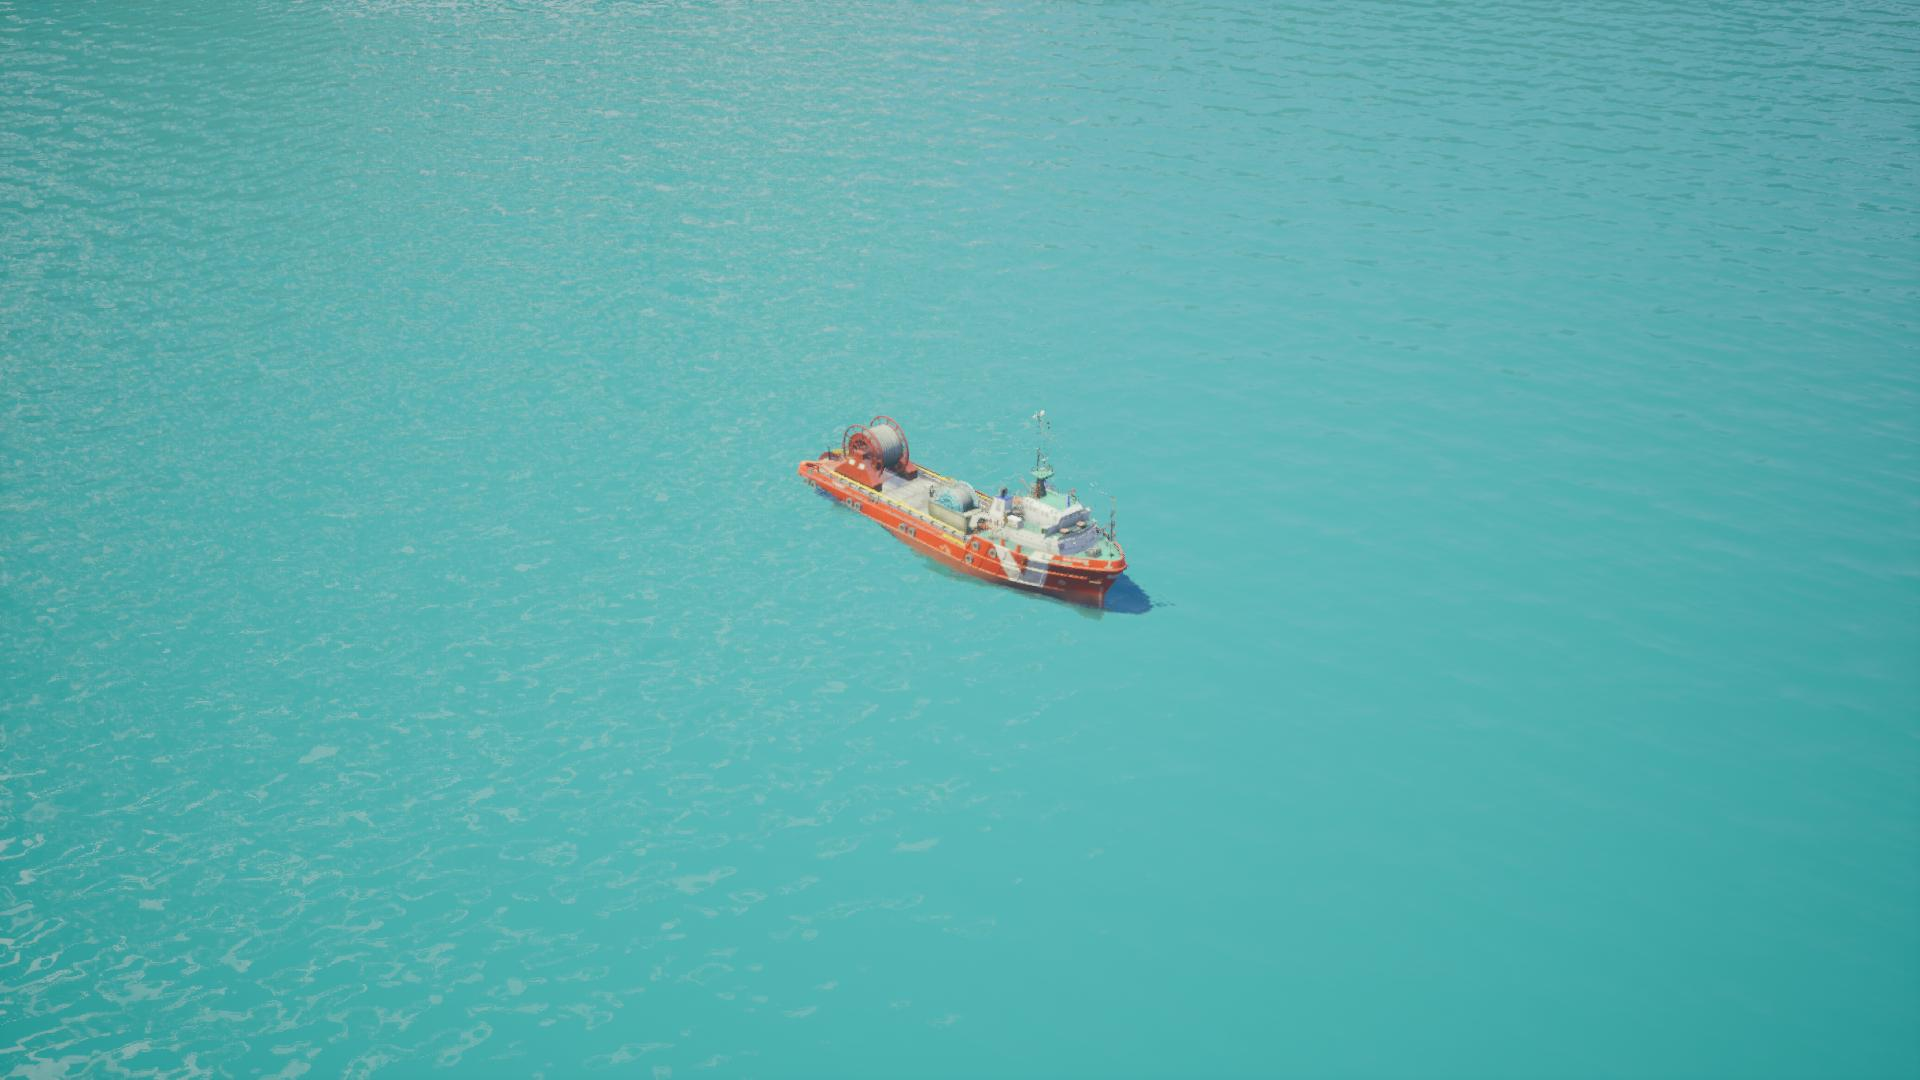Tug Boat: (771, 365, 1196, 657)
